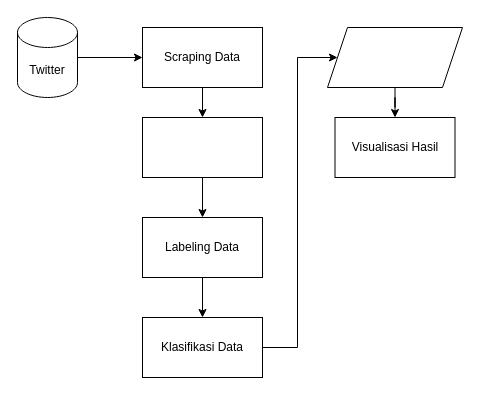
Some shapes in this 480 by 395 pixel diagram are drawn without their labels. The box of each missing label's shape, as (x1, y1, x2, y2) in pixels:
Hasil dari Klasifikasi: (326, 26, 462, 88)
Preprocessing: (142, 116, 262, 178)
